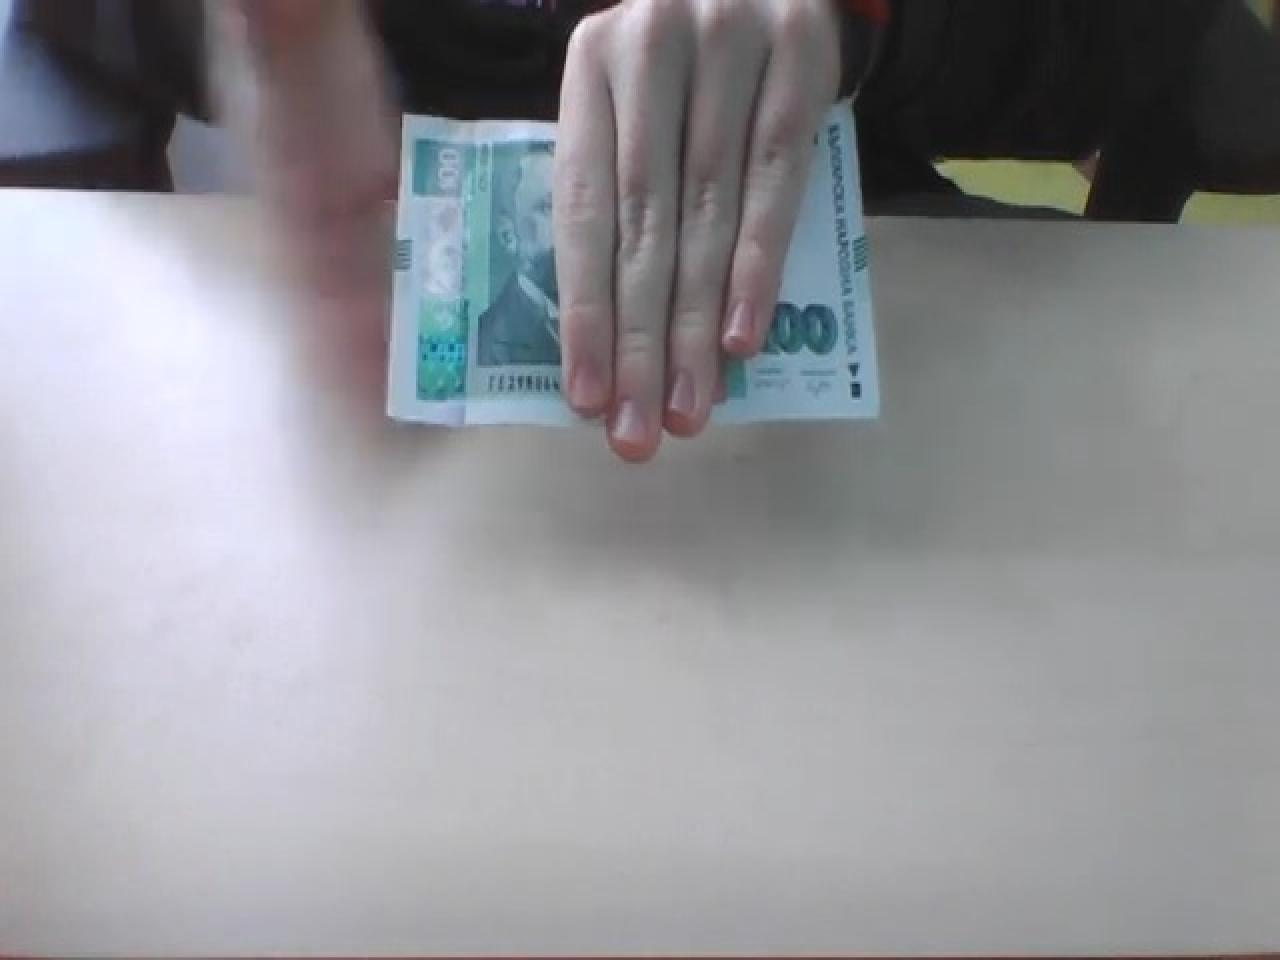100leva: (384, 101, 880, 432)
